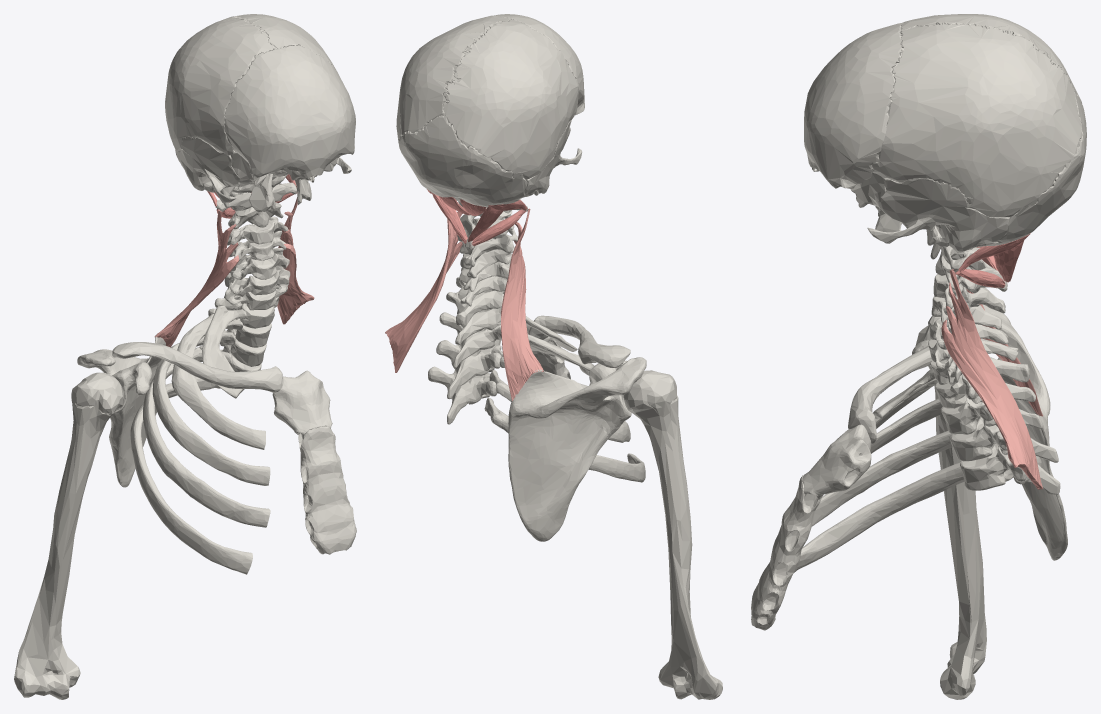
Rendered from cervicothoracic_skeleton.glb.
3 views of the same model, side by side, from view 1: azimuth 30°, elevation 25°; view 2: azimuth 150°, elevation 25°; view 3: azimuth 270°, elevation 25° (orthographic). The views are drawn at different scales.
Visible parts, largest first — view 1: Skull_Cranium, Thorax, Humerus_R, Cervical_Lower, Scapula_R, Levator_Scapulae, Clavicle_R, Cervical_Upper; view 2: Skull_Cranium, Scapula_R, Humerus_R, Thorax, Levator_Scapulae, Cervical_Lower, Suboccipital_Muscles, Clavicle_R, Cervical_Upper; view 3: Skull_Cranium, Thorax, Humerus_R, Levator_Scapulae, Cervical_Lower, Scapula_R, Clavicle_R, Suboccipital_Muscles, Cervical_Upper.
Boxes of the visible parts, bbox=[...] form: Skull_Cranium: bbox=[165, 14, 355, 211]; Thorax: bbox=[130, 285, 356, 574]; Humerus_R: bbox=[14, 372, 124, 699]; Cervical_Lower: bbox=[224, 216, 290, 310]; Scapula_R: bbox=[77, 334, 165, 487]; Levator_Scapulae: bbox=[154, 197, 314, 347]; Clavicle_R: bbox=[112, 342, 282, 392]; Cervical_Upper: bbox=[215, 182, 296, 229]; Skull_Cranium: bbox=[396, 14, 584, 206]; Scapula_R: bbox=[508, 357, 646, 541]; Humerus_R: bbox=[623, 370, 722, 699]; Thorax: bbox=[428, 291, 645, 482]; Levator_Scapulae: bbox=[385, 208, 543, 400]; Cervical_Lower: bbox=[456, 218, 518, 327]; Suboccipital_Muscles: bbox=[427, 189, 527, 245]; Clavicle_R: bbox=[529, 315, 630, 367]; Cervical_Upper: bbox=[458, 201, 527, 250]; Skull_Cranium: bbox=[804, 14, 1086, 259]; Thorax: bbox=[751, 369, 1060, 630]; Humerus_R: bbox=[915, 316, 986, 699]; Levator_Scapulae: bbox=[941, 269, 1042, 489]; Cervical_Lower: bbox=[928, 274, 1029, 384]; Scapula_R: bbox=[912, 304, 1067, 560]; Clavicle_R: bbox=[848, 346, 932, 444]; Suboccipital_Muscles: bbox=[955, 233, 1030, 287]; Cervical_Upper: bbox=[935, 245, 1007, 292].
Size of the model in its own units: 0.3218 by 0.6068 by 0.2318.
